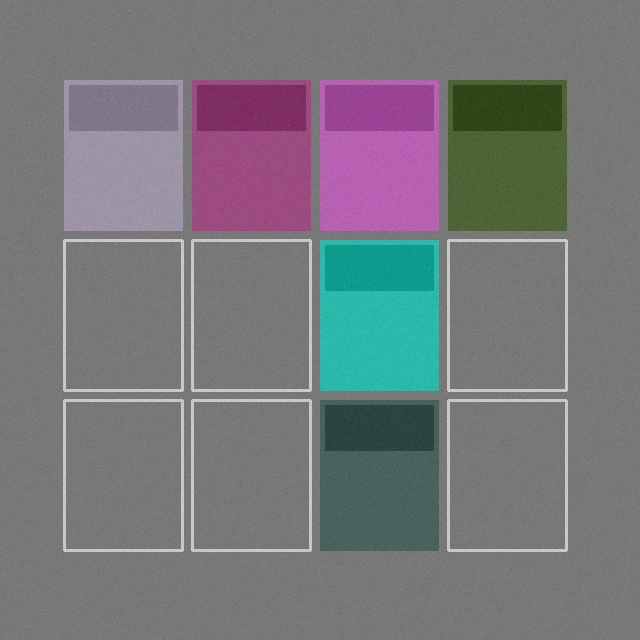space-empty: (64, 240, 182, 390), (192, 240, 310, 390), (448, 240, 566, 390), (64, 400, 182, 550), (192, 400, 310, 550), (448, 400, 566, 550)
space-occupied: (64, 80, 182, 230), (192, 80, 310, 230), (320, 80, 438, 230), (448, 80, 566, 230), (320, 240, 438, 390), (320, 400, 438, 550)
